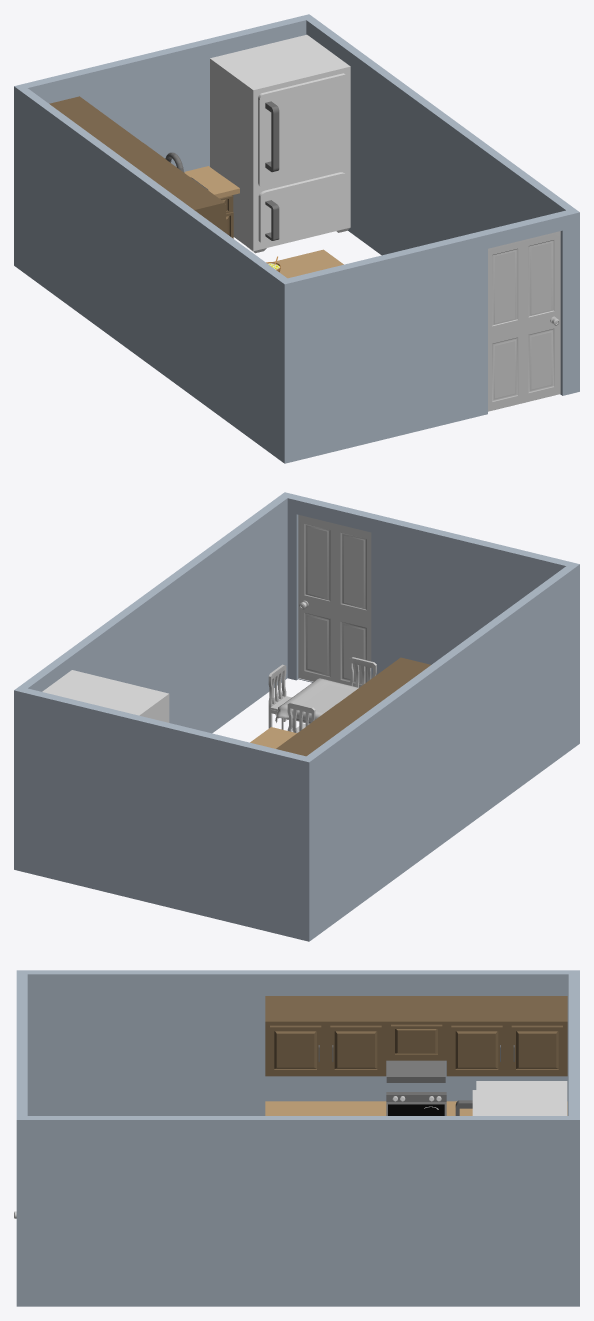
File: Kitchen.fbx
The picture shows the model from 3 angles, top to bottom: view 1: azimuth 30°, elevation 25°; view 2: azimuth 150°, elevation 25°; view 3: azimuth 270°, elevation 25°; orthographic projection. The views are drawn at different scales.
Parts seen in each view (by area): view 1: Cube, Cube.001, Geo_Door_01 Ctrl_Door_01 DoorRig_01.001, Cabinents, Marble Counter.001; view 2: Cube, Geo_Door_01 Ctrl_Door_01 DoorRig_01.001, Cabinents, Cube.001, Cloth_Plane.001, Chair_a_Cube.013, Chair_c_Cube.009, Marble Counter.001; view 3: Cube, Cabinents, Cube.001, Marble Counter.001, Stove, Stove Light.
Boxes of the visible parts, box(x1,y1,x2,y2) form: Cube: box(14, 14, 579, 463); Cube.001: box(210, 34, 350, 253); Geo_Door_01 Ctrl_Door_01 DoorRig_01.001: box(488, 231, 560, 411); Cabinents: box(49, 96, 225, 232); Marble Counter.001: box(184, 166, 343, 278); Cube: box(14, 492, 579, 941); Geo_Door_01 Ctrl_Door_01 DoorRig_01.001: box(298, 515, 371, 687); Cabinents: box(276, 657, 430, 756); Cube.001: box(42, 670, 169, 722); Cloth_Plane.001: box(275, 678, 358, 723); Chair_a_Cube.013: box(268, 664, 309, 730); Chair_c_Cube.009: box(287, 702, 315, 732); Marble Counter.001: box(250, 727, 296, 748); Cube: box(16, 970, 579, 1306); Cabinents: box(265, 996, 567, 1076); Cube.001: box(455, 1081, 567, 1115); Marble Counter.001: box(265, 1101, 567, 1115); Stove: box(386, 1092, 446, 1115); Stove Light: box(386, 1060, 445, 1082).
Bounding box in the file's own units: 417 × 243 × 665.
